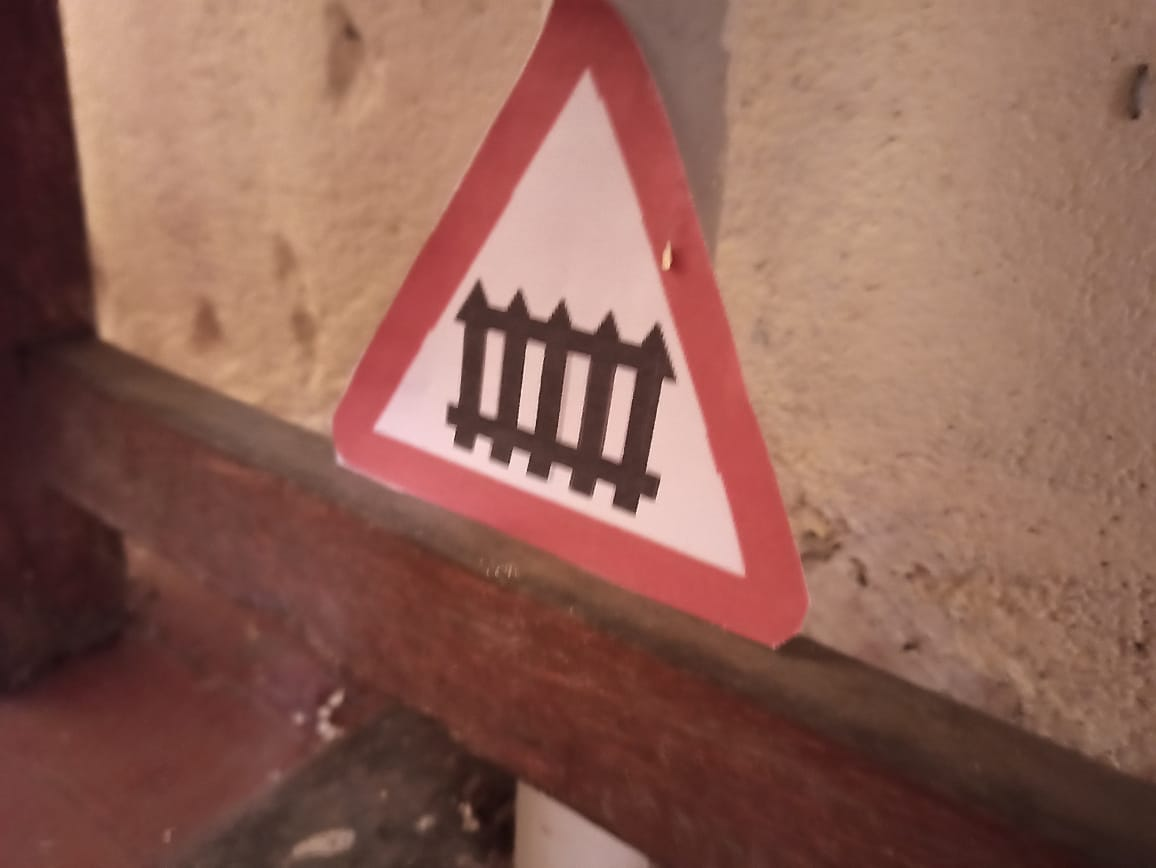GUARDED LEVEL CROSSING: (351, 1, 809, 653)
